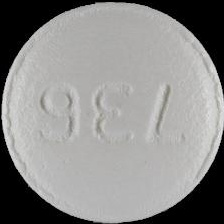52125-211: (0, 0, 224, 224)
